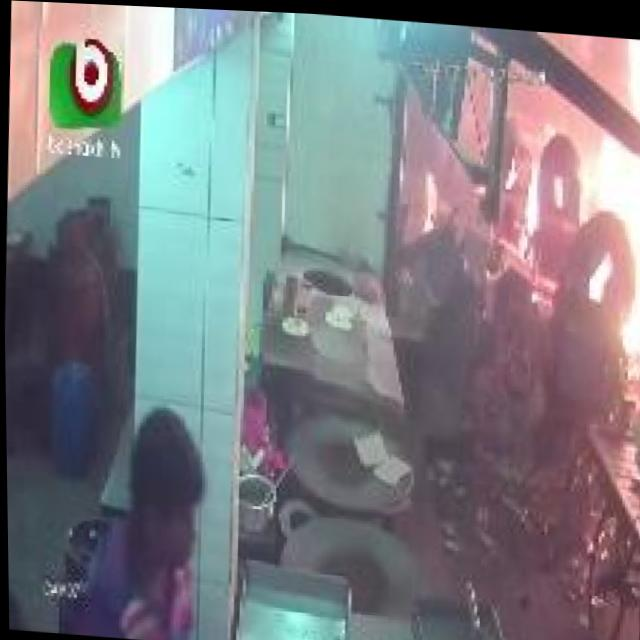fire: (576, 31, 640, 361), (508, 153, 547, 244)
